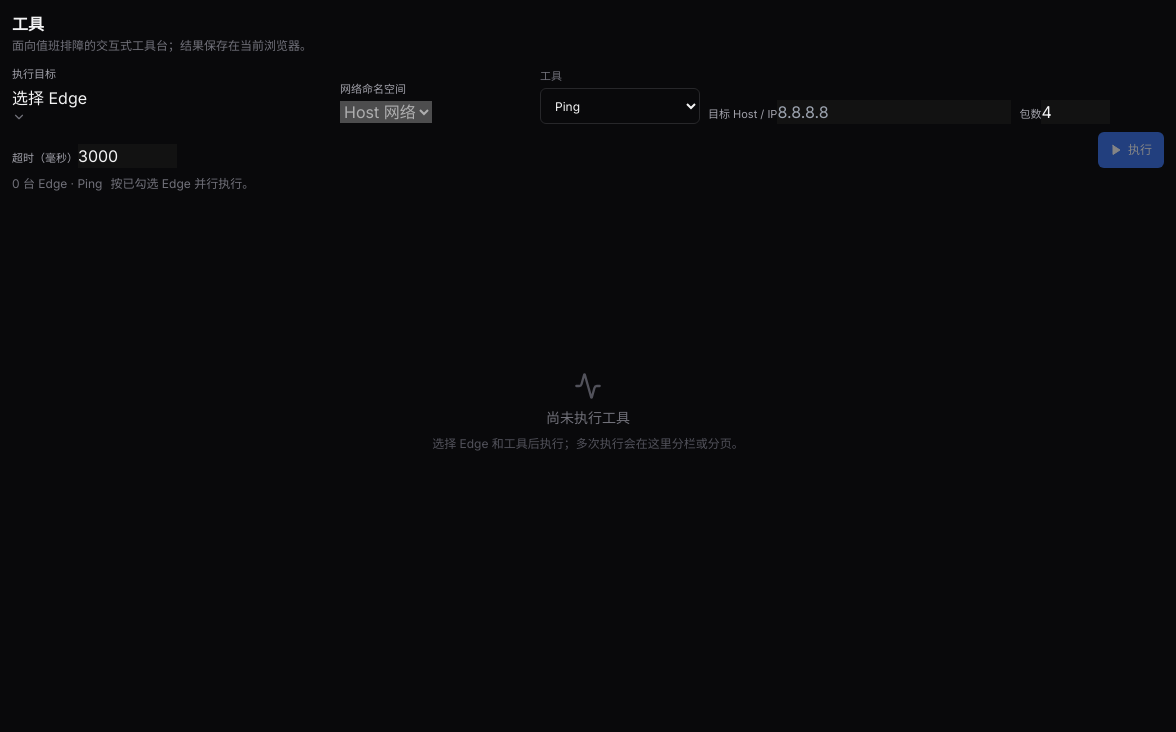
Scenario: DailyToolsPage › 抓包会展示成员创建失败原因
Click the button "选择 Edge": (50, 105) [12,86,87,124]
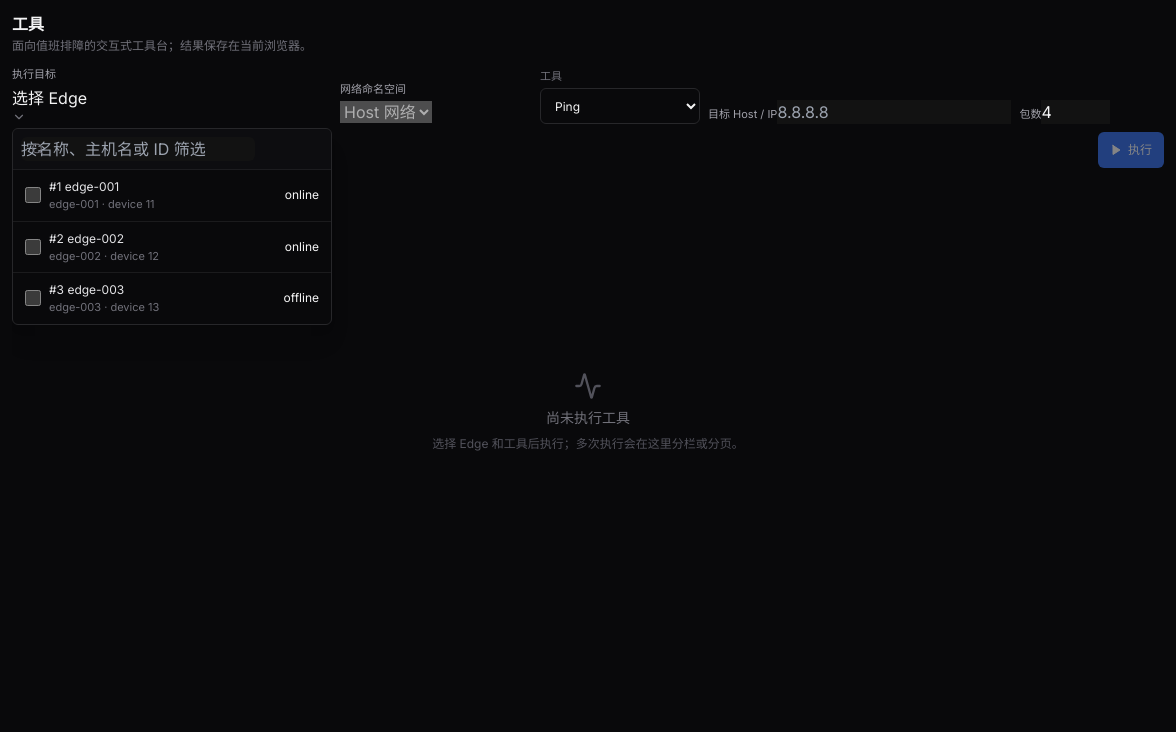
expect the field named "搜索 Edge" is shown: met, box [21,137,255,161]
Click the checkbox named "选择 #1 edge-001": (33, 195) [25,187,41,203]
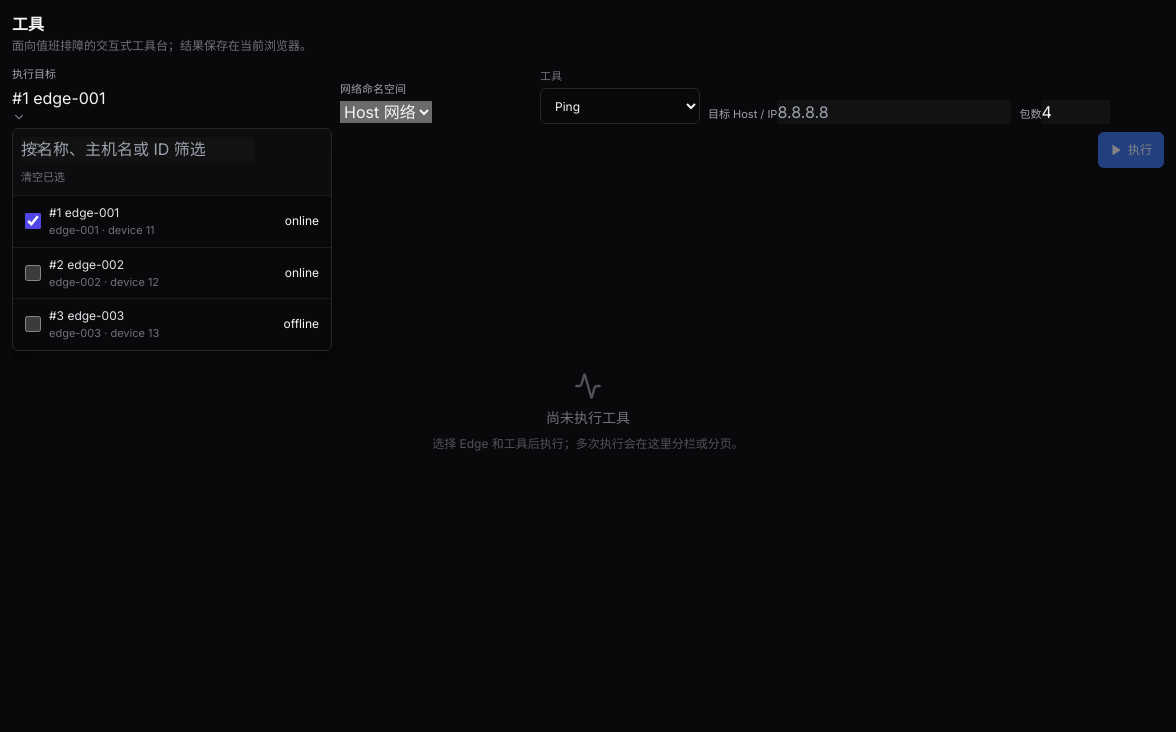
Select "Tcpdump" in the dropdown labelled "工具": (620, 106) [540,88,700,124]
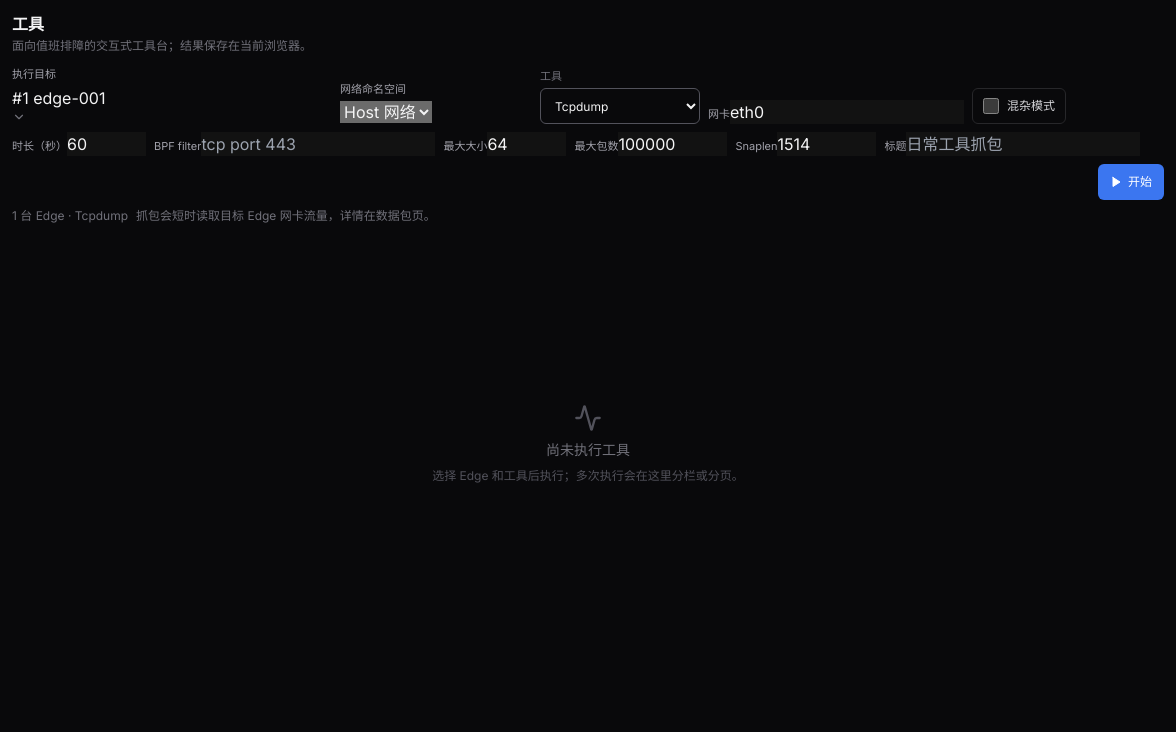
Click the button "开始": (1131, 182) [1098,164,1164,200]
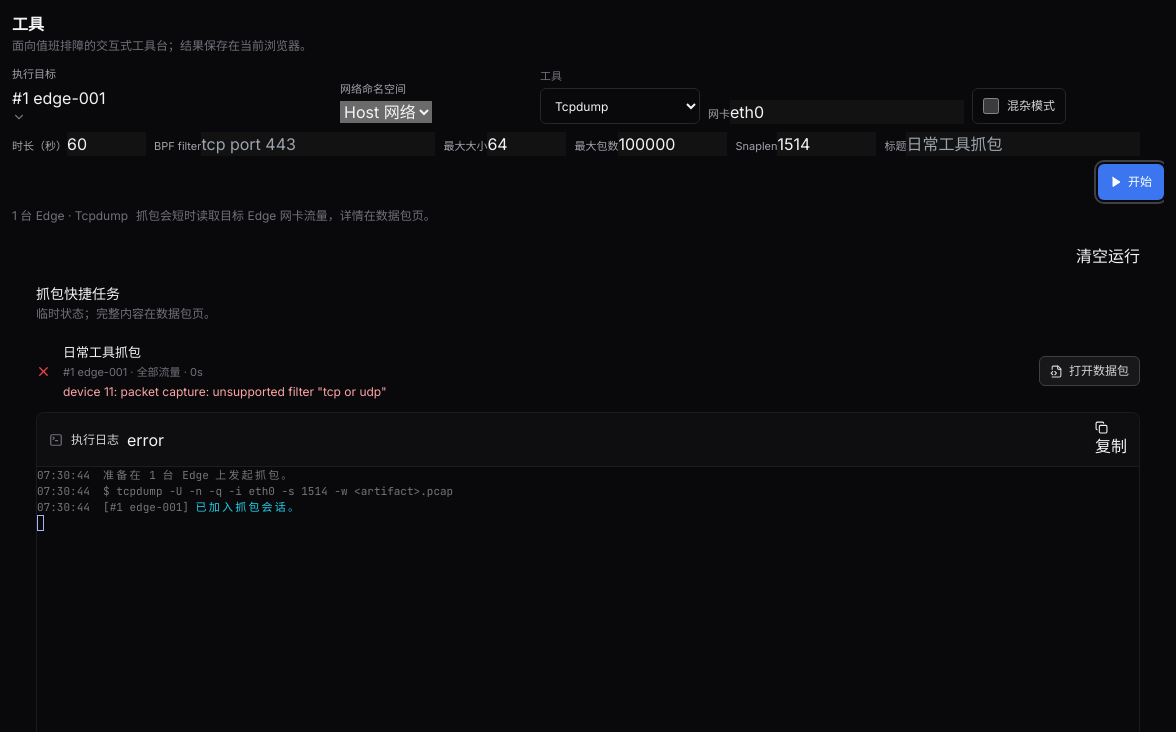
expect the text "device 11: packet capture: unsupported filter \"tcp or udp\"" is shown: met, box [63,384,387,399]
